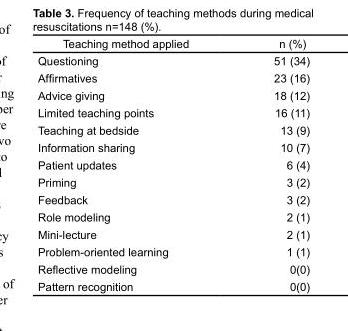table: (36, 36, 309, 292)
table column: (36, 36, 230, 292), (230, 36, 309, 292)
table column header: (36, 36, 309, 51)
table row: (36, 51, 309, 69), (36, 103, 309, 121), (36, 155, 309, 173), (36, 207, 309, 225), (36, 242, 309, 260), (36, 69, 309, 86), (36, 86, 309, 103), (36, 121, 309, 138), (36, 138, 309, 155), (36, 173, 309, 190), (36, 190, 309, 207), (36, 225, 309, 242), (36, 260, 309, 277), (36, 36, 309, 51), (36, 277, 309, 292)
